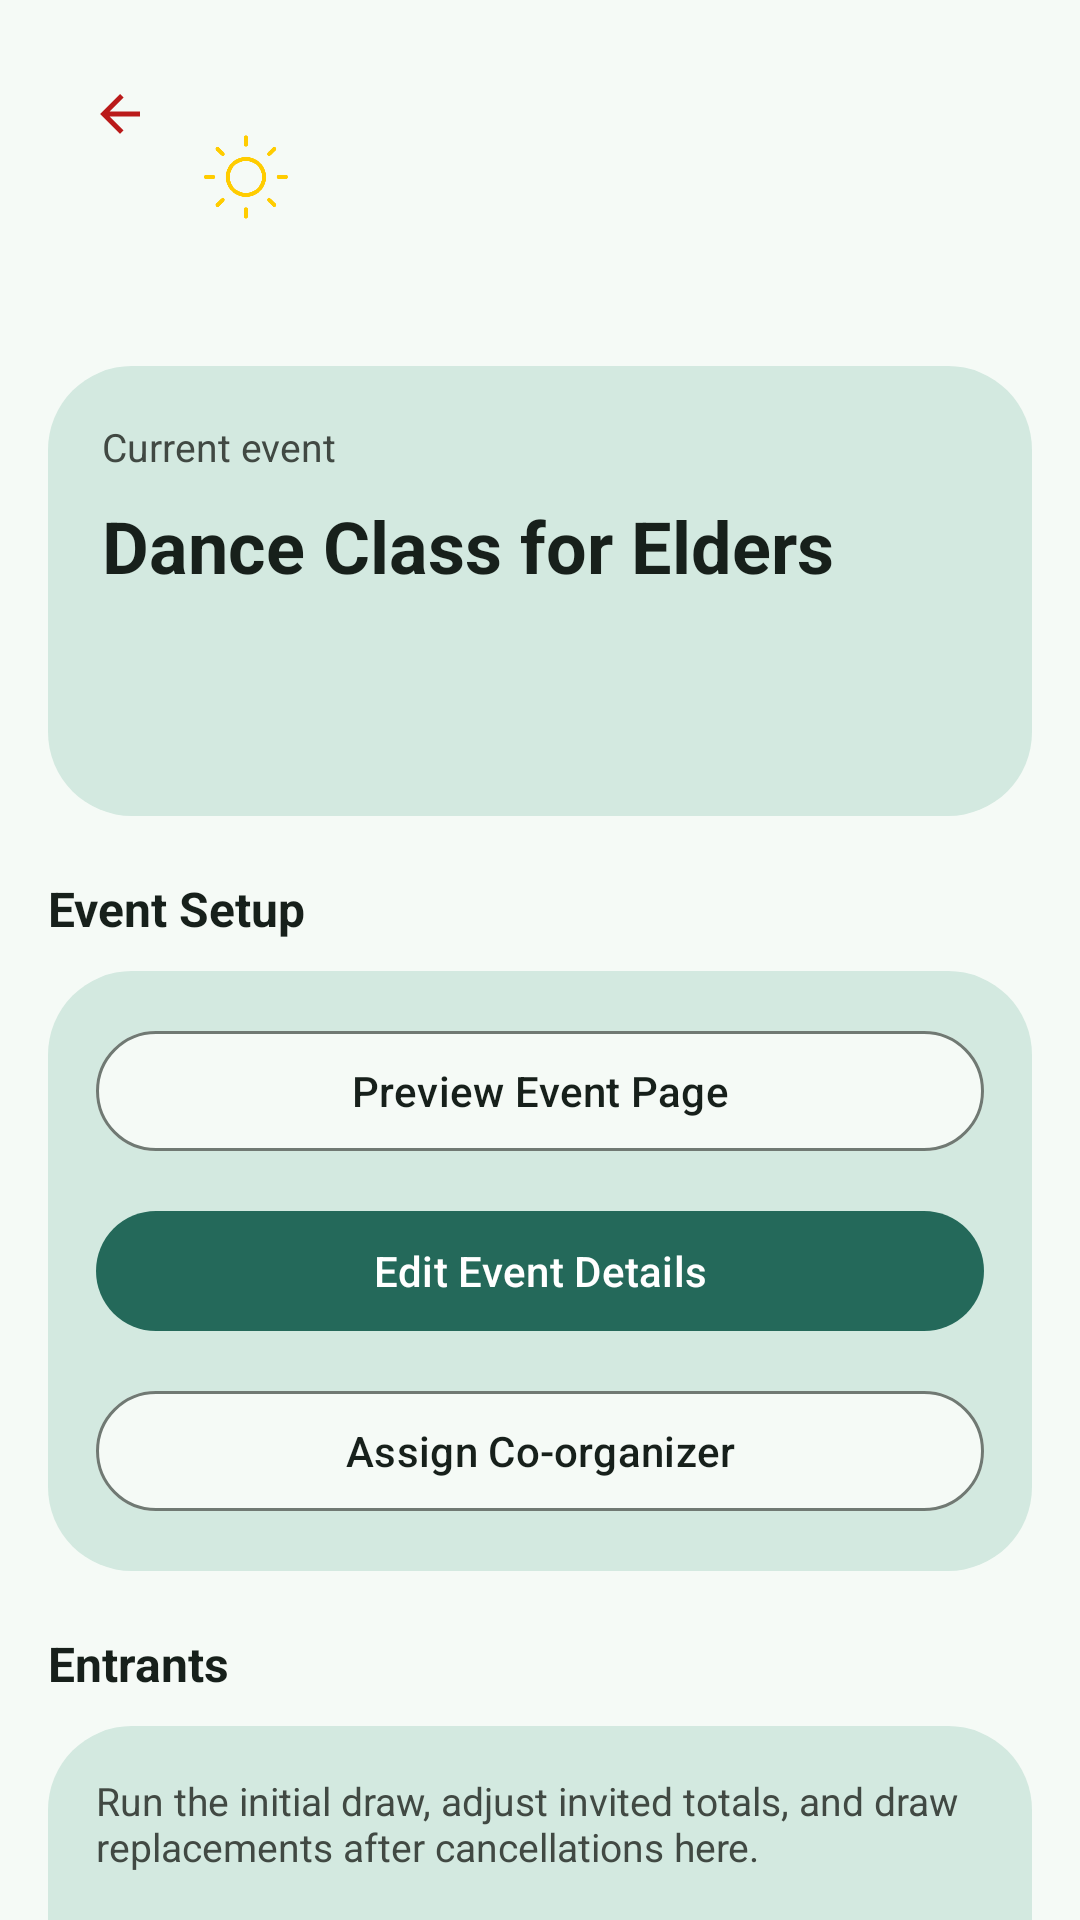

Screen size 1080px×1920px. Icon name, then its center in pixels as (x,y):
arrow back: (120,114)
